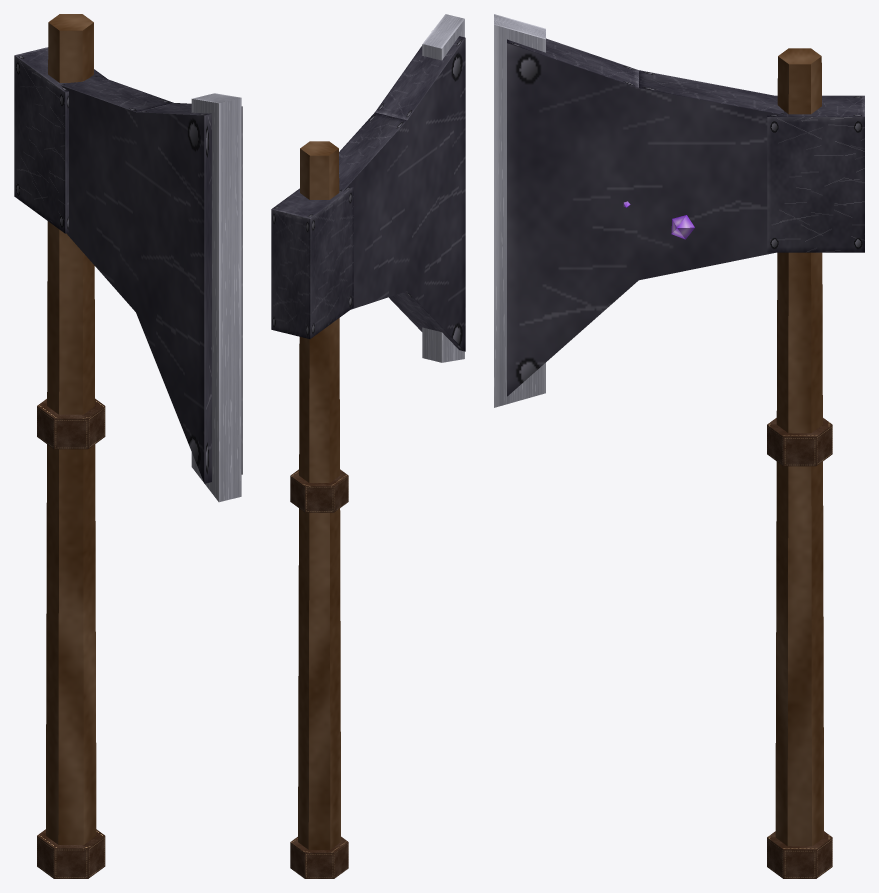
Rendered from MidAxe.fbx.
3 renders of one model, left to right at view 1: azimuth 30°, elevation 25°; view 2: azimuth 150°, elevation 25°; view 3: azimuth 270°, elevation 25°, orthographic. The views are drawn at different scales.
Parts seen in each view (by area): view 1: Head, Handle; view 2: Head, Handle; view 3: Head, Handle.
Part boxes in pixels (x1,y1,x2,y2): Head: (14,47,242,502); Handle: (37,14,105,878); Head: (271,14,465,362); Handle: (290,141,348,878); Head: (494,14,864,407); Handle: (767,48,832,878).
Bounding box in the file's own units: 30.24 × 287 × 114.
2 materials, 2 textured.
